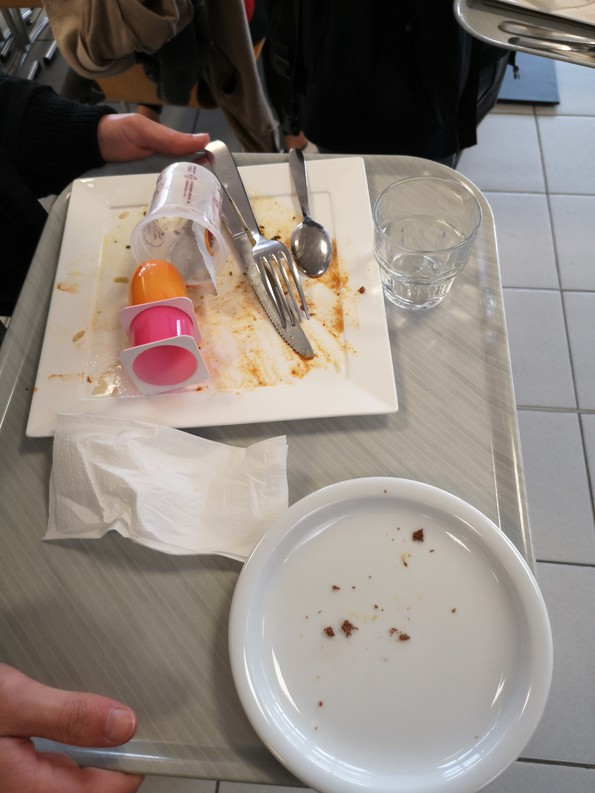cup: (366, 166, 480, 321)
cutlery: (198, 128, 349, 363)
trash: (33, 408, 286, 575), (123, 170, 230, 393)
